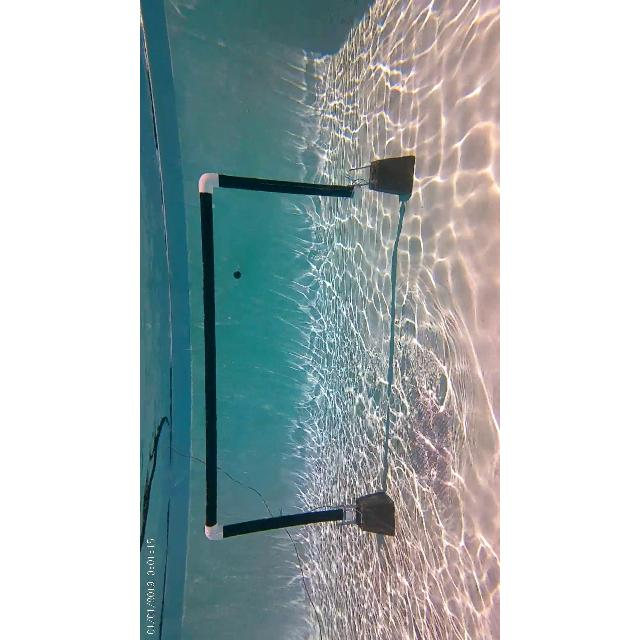prequal gate: (198, 172, 356, 542)
prequal gate leg l: (195, 498, 398, 542)
prequal gate leg r: (192, 158, 414, 208)
